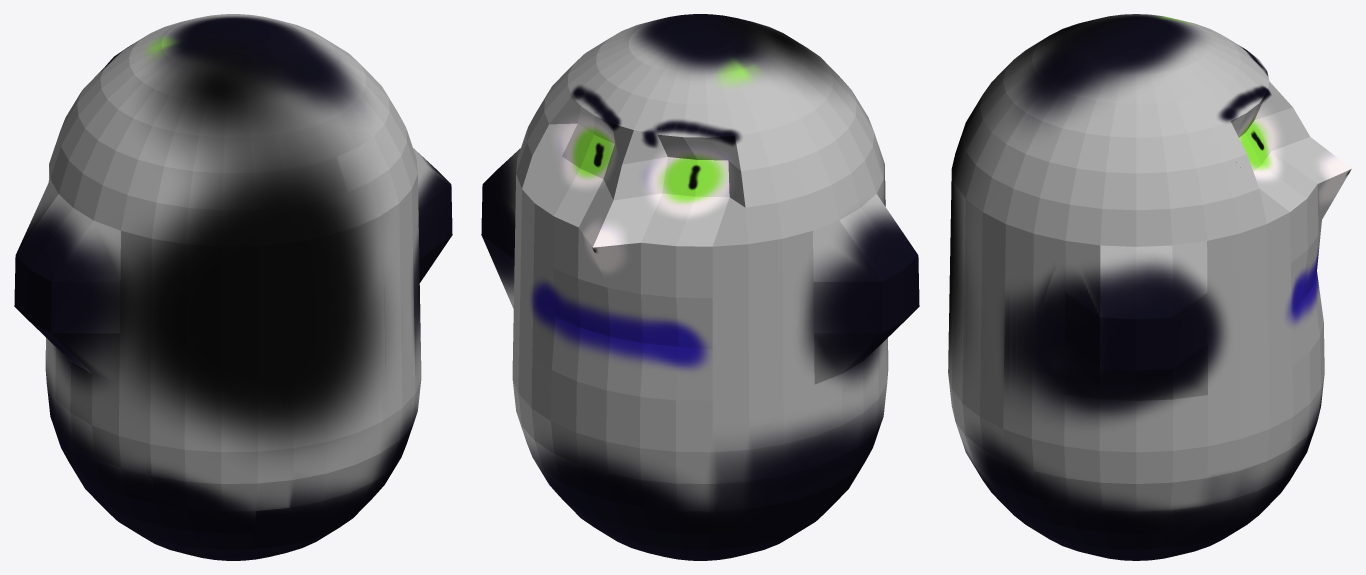
File: Еблоид.glb
3 renders of one model, left to right at view 1: azimuth 30°, elevation 25°; view 2: azimuth 150°, elevation 25°; view 3: azimuth 270°, elevation 25°, orthographic.
Visible parts, largest first — view 1: Сфера; view 2: Сфера; view 3: Сфера.
Part boxes in pixels (box(x1,y1,x2,y2)): Сфера: box(14, 14, 452, 560); Сфера: box(481, 14, 919, 560); Сфера: box(948, 14, 1351, 560).
Size of the model in its own units: 2.51 by 3 by 2.14.
Materials: 1 (1 with a texture image).
